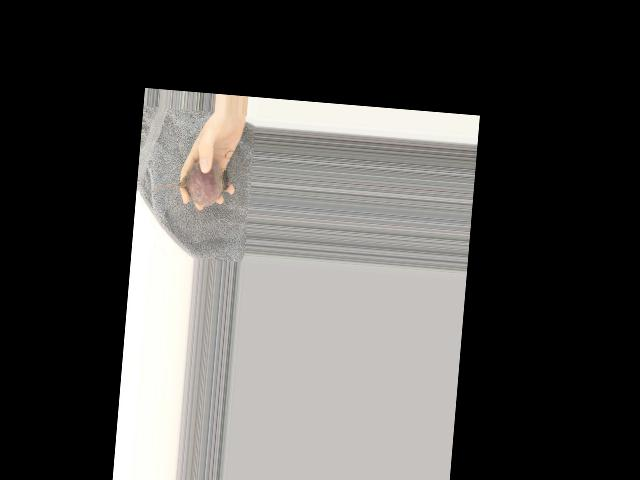beet: (149, 153, 230, 208)
